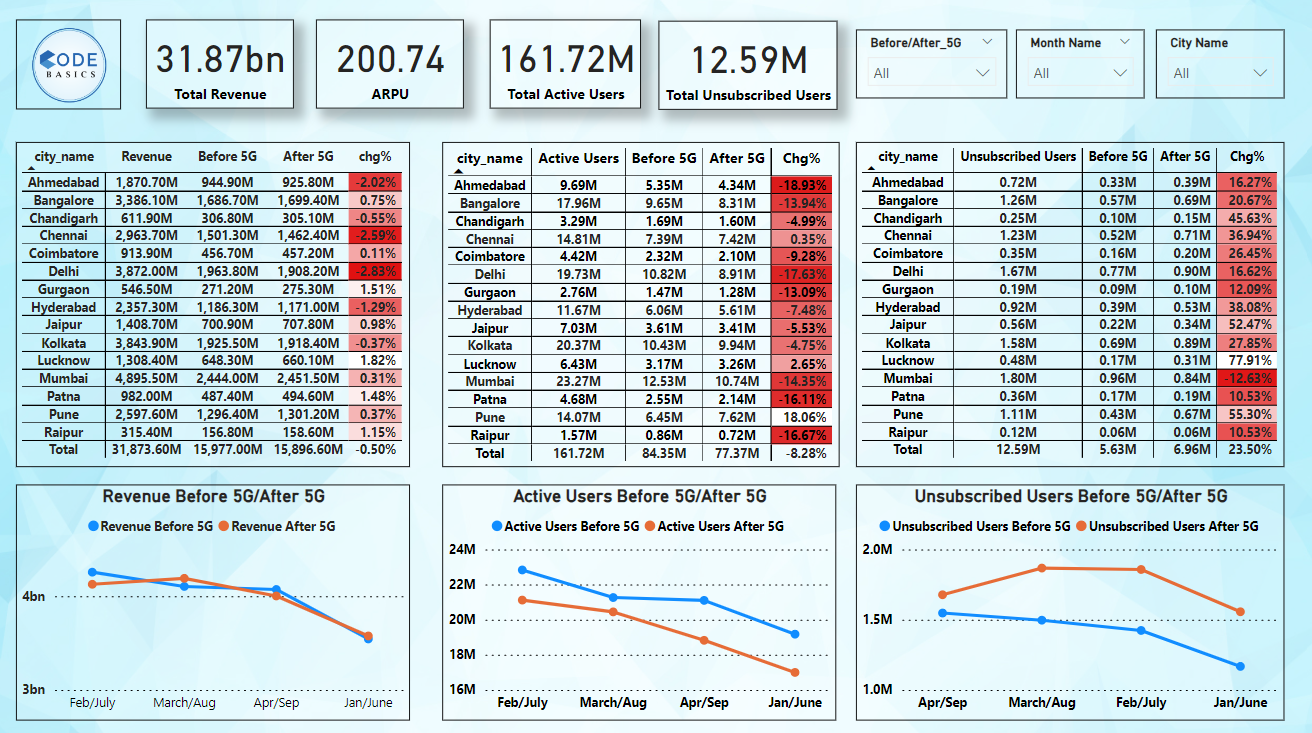

This screenshot's page, from the dashboard's own definition file:
{"tool":"powerbi","page":{"name":"Page 1","canvas":[1280,720],"ordinal":0},"visuals":[{"type":"slicer","fields":{"Values":["dim_date.before/after_5g"]},"box":[828.6,50,144,65.5],"z":0},{"type":"slicer","fields":{"Values":["dim_date.month_name"]},"box":[981,50,122.6,65.5],"z":1000},{"type":"slicer","fields":{"Values":["dim_cities.city_name"]},"box":[1114.3,50,122.6,65.5],"z":2000},{"type":"card","fields":{"Values":["Key_measure.Total Revenue"]},"box":[152.4,40.5,140.5,84.5],"z":3000},{"type":"card","fields":{"Values":["Key_measure.ARPU"]},"box":[314.3,40.5,140.5,84.5],"z":4000},{"type":"card","fields":{"Values":["Key_measure.Total Active Users"]},"box":[479.8,40.5,144,84.5],"z":5000},{"type":"card","fields":{"Values":["Key_measure.Total Unsubscribed Users"]},"box":[640.5,41.7,170.2,84.5],"z":6000},{"type":"pivotTable","fields":{"Rows":["dim_cities.city_name"],"Values":["Key_measure.Total Revenue","Key_measure.Revenue Before 5G","Key_measure.Revenue After 5G","Key_measure.Revenue_chage"]},"box":[28.6,157.1,375,309.5],"z":7000},{"type":"pivotTable","fields":{"Rows":["dim_cities.city_name"],"Values":["Key_measure.Total Active Users","Key_measure.Active Users Before 5G","Key_measure.Active Users After 5G","Key_measure.Active_users_chg"]},"box":[434.5,157.1,378.6,309.5],"z":8000},{"type":"pivotTable","fields":{"Rows":["dim_cities.city_name"],"Values":["Key_measure.Total Unsubscribed Users","Key_measure.Unsubscribed Users Before 5G","Key_measure.Unsubscribed Users After 5G","Key_measure.Unsub_users_chg%"]},"box":[828.6,157.1,408.3,309.5],"z":9000},{"type":"lineChart","title":"Revenue Before 5G/After 5G","fields":{"Category":["Month_comparison.Month Name"],"Y":["Key_measure.Revenue Before 5G","Key_measure.Revenue After 5G"]},"box":[28.6,483.3,375,225],"z":10000},{"type":"lineChart","title":"Active Users Before 5G/After 5G","fields":{"Category":["Month_comparison.Month Name"],"Y":["Key_measure.Active Users Before 5G","Key_measure.Active Users After 5G"]},"box":[434.5,483.3,375,225],"z":11000},{"type":"lineChart","title":"Unsubscribed Users Before 5G/After 5G","fields":{"Category":["Month_comparison.Month Name"],"Y":["Key_measure.Unsubscribed Users Before 5G","Key_measure.Unsubscribed Users After 5G"]},"box":[828.6,483.3,408.3,225],"z":12000},{"type":"image","box":[28.6,40.5,100,85.7],"z":13000}]}

Visuals, with their boxes in screenshot pixels (x1, y1, x2, y2), scaled from the page's 1280x720 canvas onto the 1312x733 screenshot:
slicer - dim_date.before/after_5g: locate(849, 51, 997, 118)
slicer - dim_date.month_name: locate(1006, 51, 1131, 118)
slicer - dim_cities.city_name: locate(1142, 51, 1268, 118)
card - Key_measure.Total Revenue: locate(156, 41, 300, 127)
card - Key_measure.ARPU: locate(322, 41, 466, 127)
card - Key_measure.Total Active Users: locate(492, 41, 639, 127)
card - Key_measure.Total Unsubscribed Users: locate(657, 42, 831, 128)
pivotTable - dim_cities.city_name x Key_measure.Total Revenue: locate(29, 160, 414, 475)
pivotTable - dim_cities.city_name x Key_measure.Total Active Users: locate(445, 160, 833, 475)
pivotTable - dim_cities.city_name x Key_measure.Total Unsubscribed Users: locate(849, 160, 1268, 475)
"Revenue Before 5G/After 5G" lineChart: locate(29, 492, 414, 721)
"Active Users Before 5G/After 5G" lineChart: locate(445, 492, 830, 721)
"Unsubscribed Users Before 5G/After 5G" lineChart: locate(849, 492, 1268, 721)
image: locate(29, 41, 132, 128)
